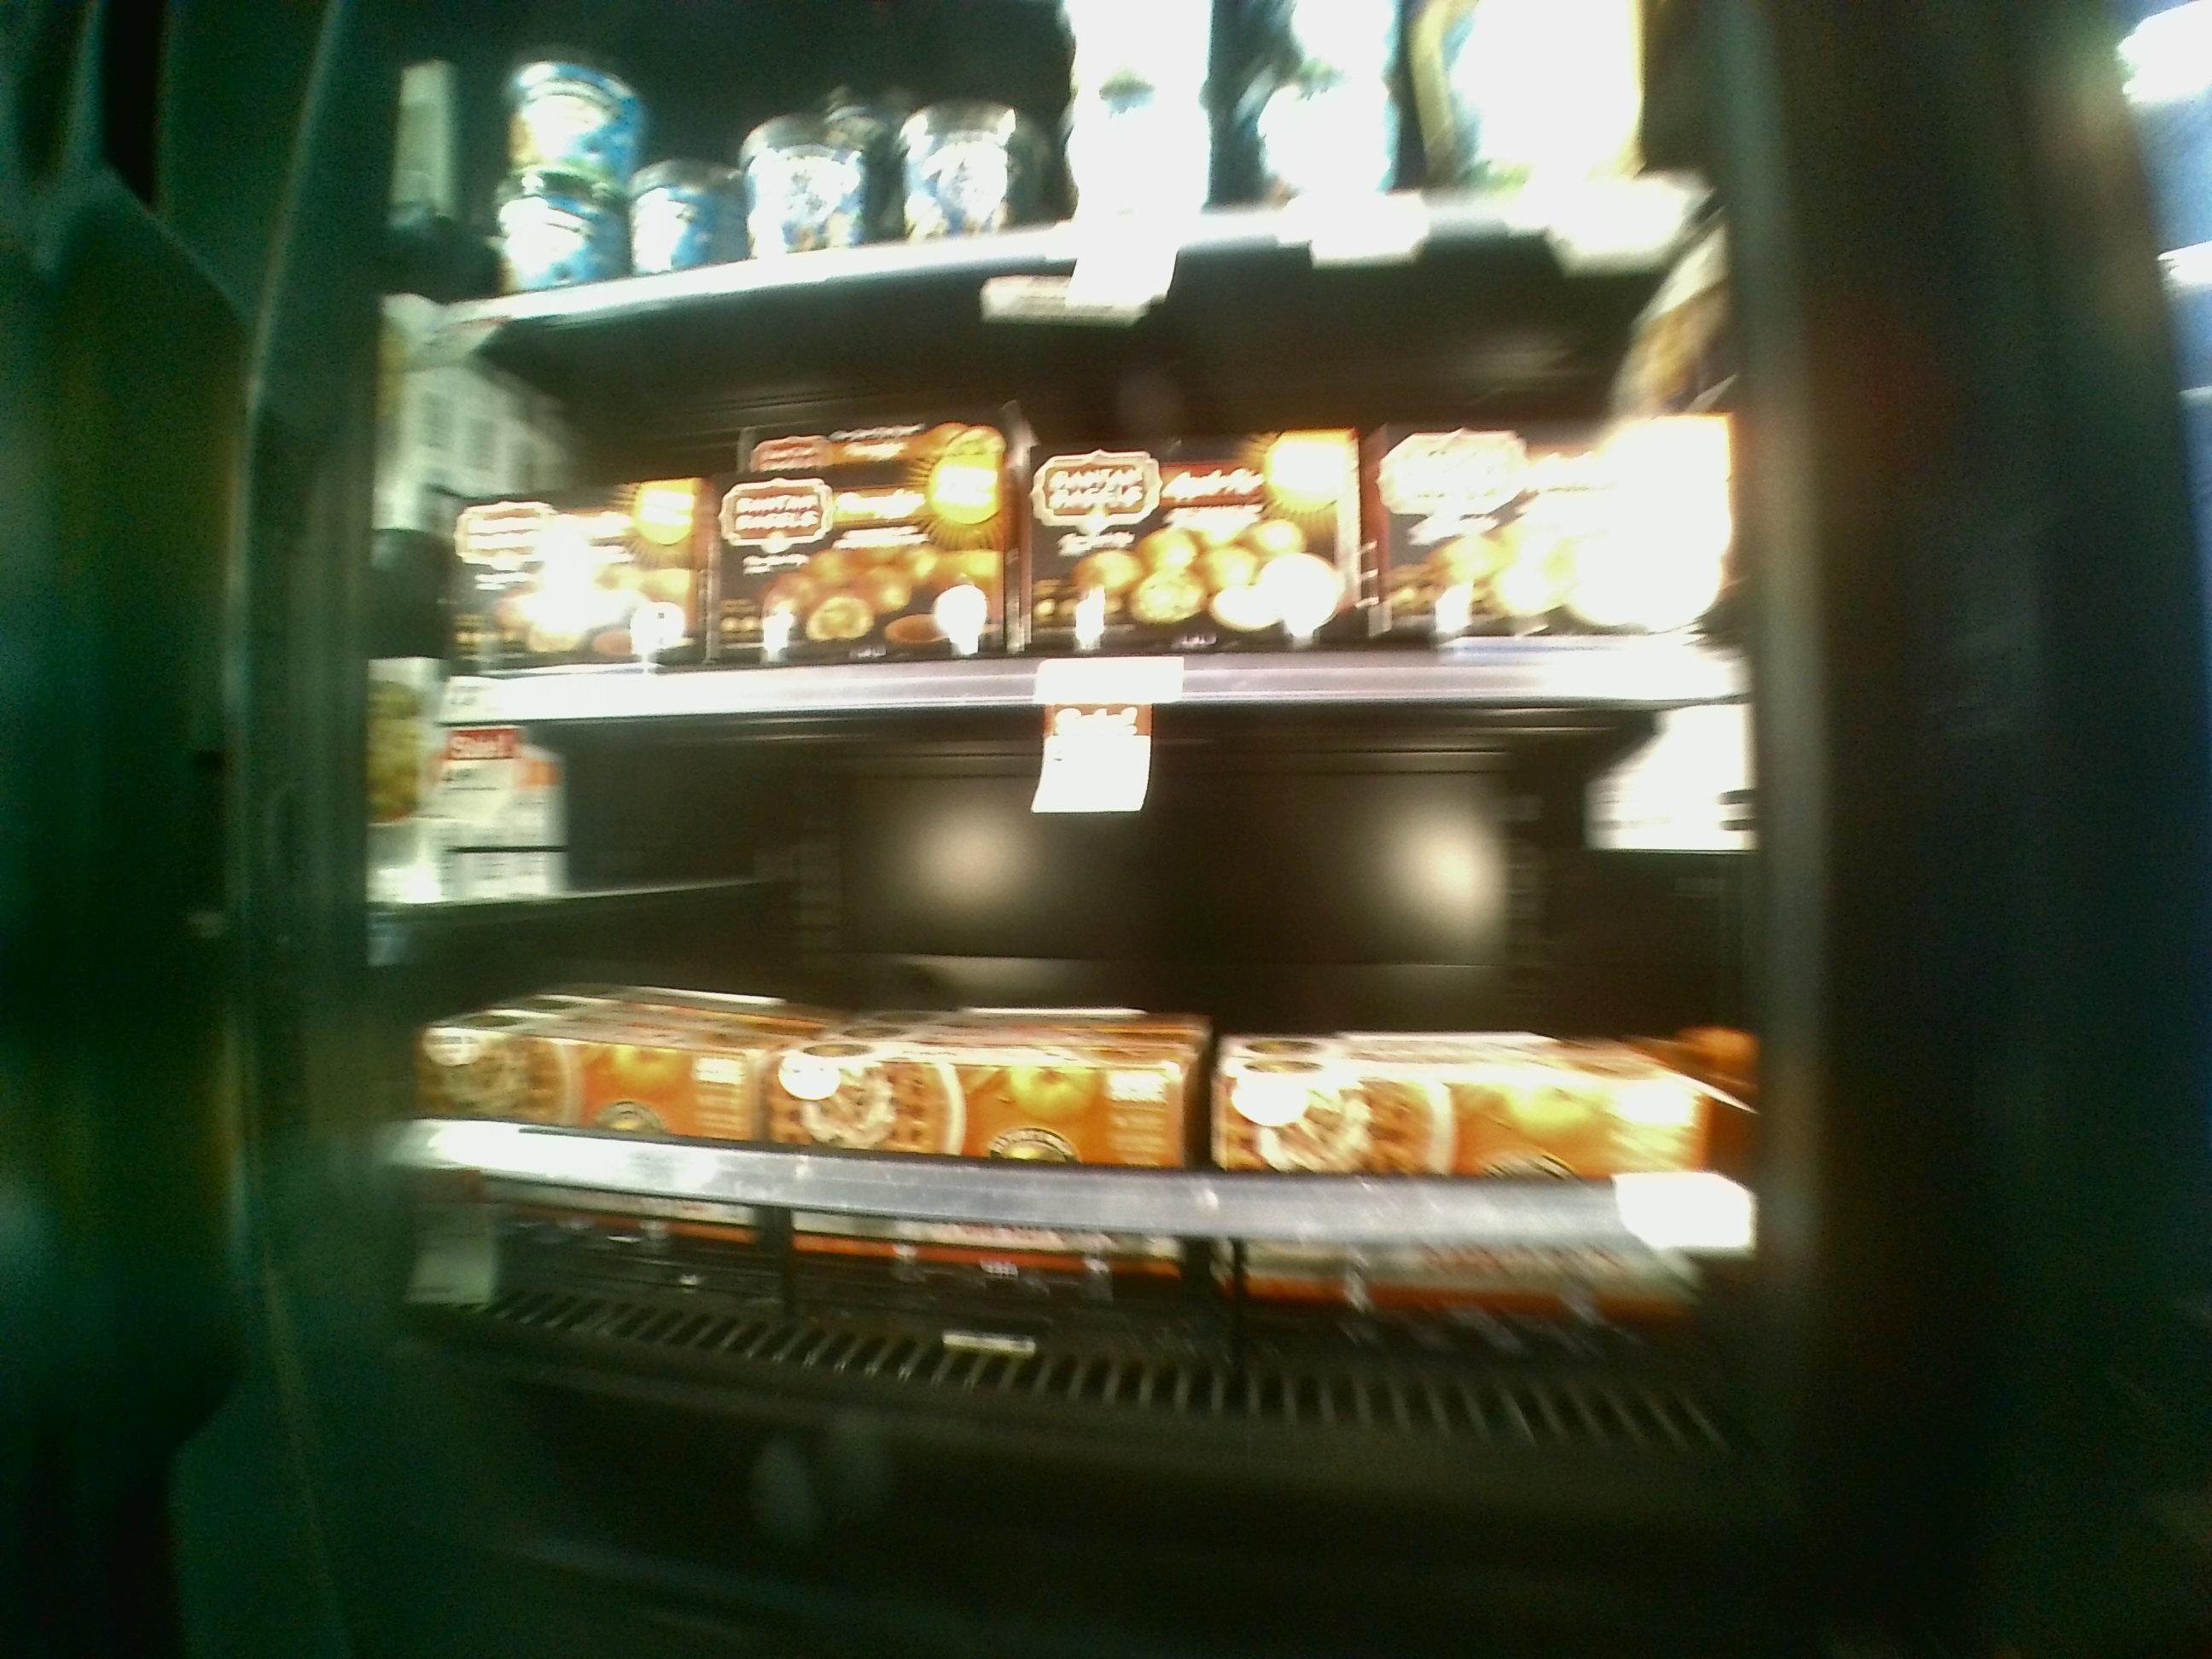shelf: (423, 704, 1757, 1481), (420, 308, 1752, 711)
